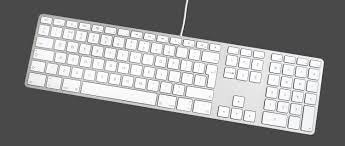keyboard: (21, 11, 323, 140)
